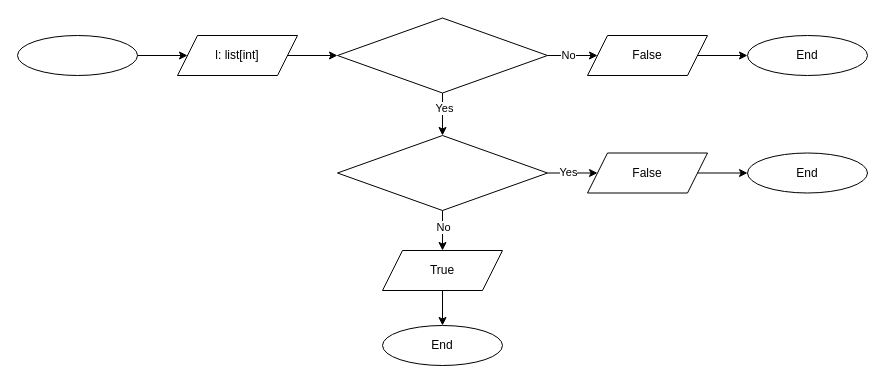
Image size: 885x383. Some labels were removed from this diagram. The centre of each missing label's shape, as x and y in pixels:
"Check if there are numbers that appear more than twice." goes at point 442,172.
"For each number in the list check if they are smaller than the next one" goes at point 442,55.
"Start" goes at point 77,55.
